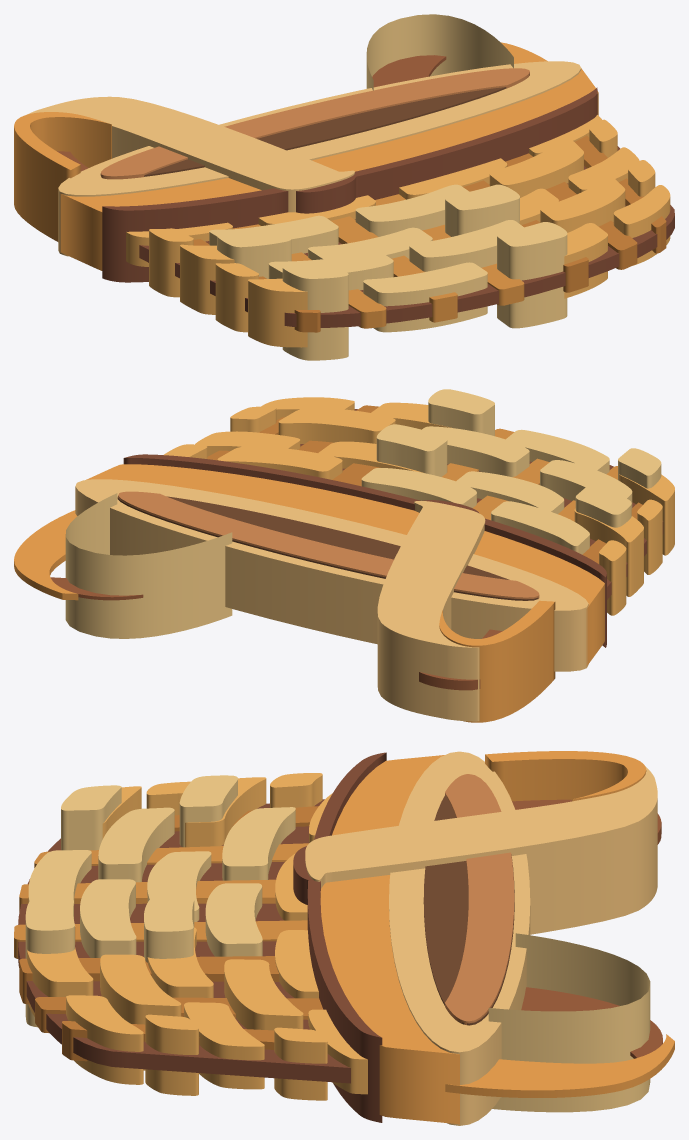
The model's file is emoji_u1f9fa.glb.
The picture shows the model from 3 angles, top to bottom: view 1: azimuth 30°, elevation 25°; view 2: azimuth 150°, elevation 25°; view 3: azimuth 270°, elevation 25°; orthographic projection. The views are drawn at different scales.
Visible parts, largest first — view 1: emoji_u1f9fa; view 2: emoji_u1f9fa; view 3: emoji_u1f9fa.
Part boxes in pixels (<box>): emoji_u1f9fa: <box>14,14,674,360</box>; emoji_u1f9fa: <box>14,389,674,722</box>; emoji_u1f9fa: <box>14,751,674,1125</box>.
Bounding box in the file's own units: 0.0338 × 0.0052 × 0.0309.
